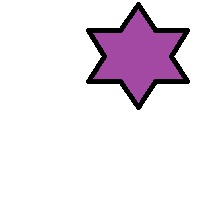star: (86, 2, 190, 112)
